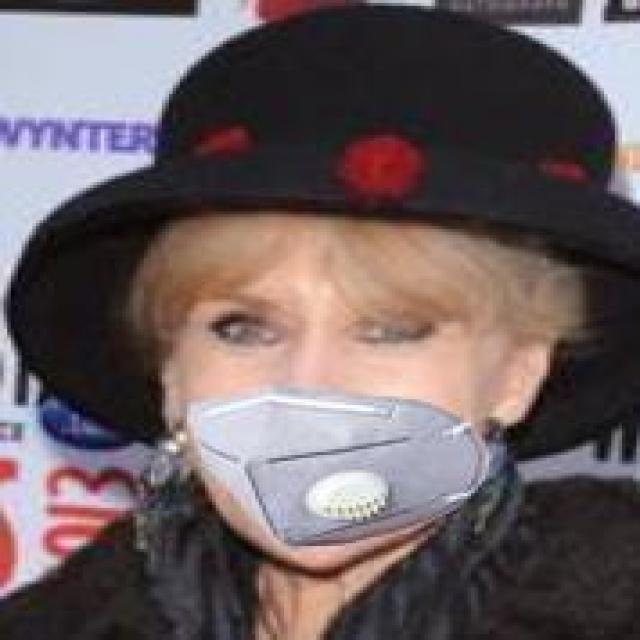mask: (112, 185, 558, 599)
